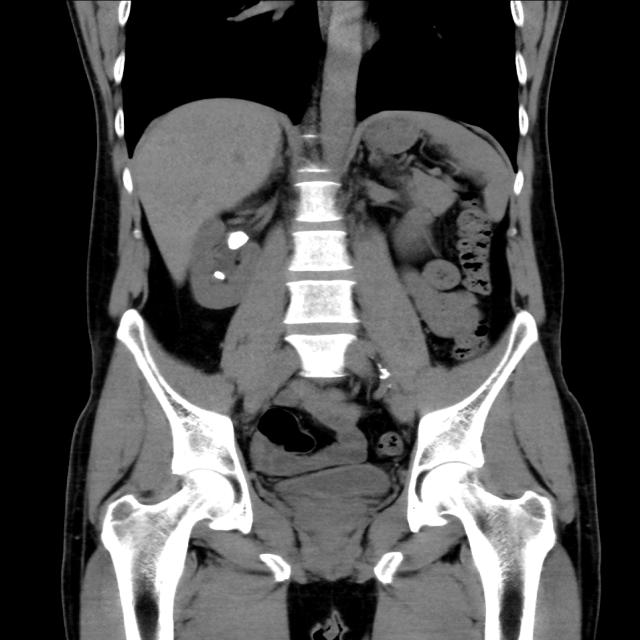kidneystone: (227, 231, 249, 249), (213, 271, 226, 279)
